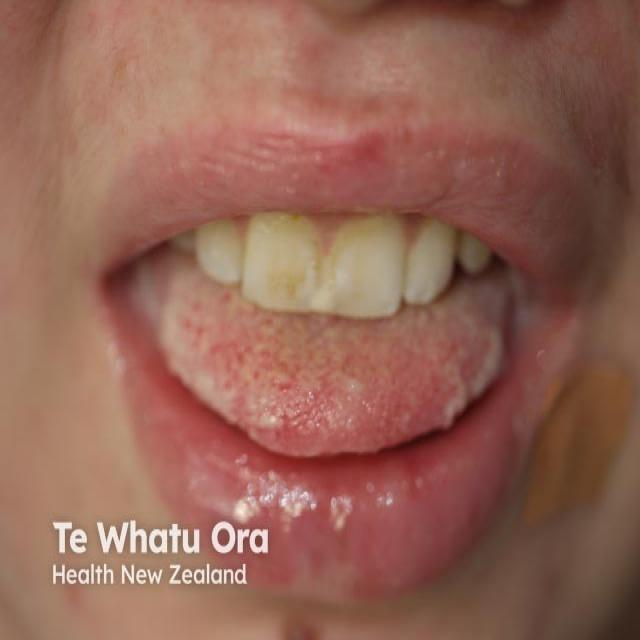lupus-detected: (133, 384, 560, 627)
